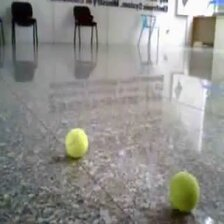tennis: (168, 172, 199, 212), (65, 126, 87, 158)
